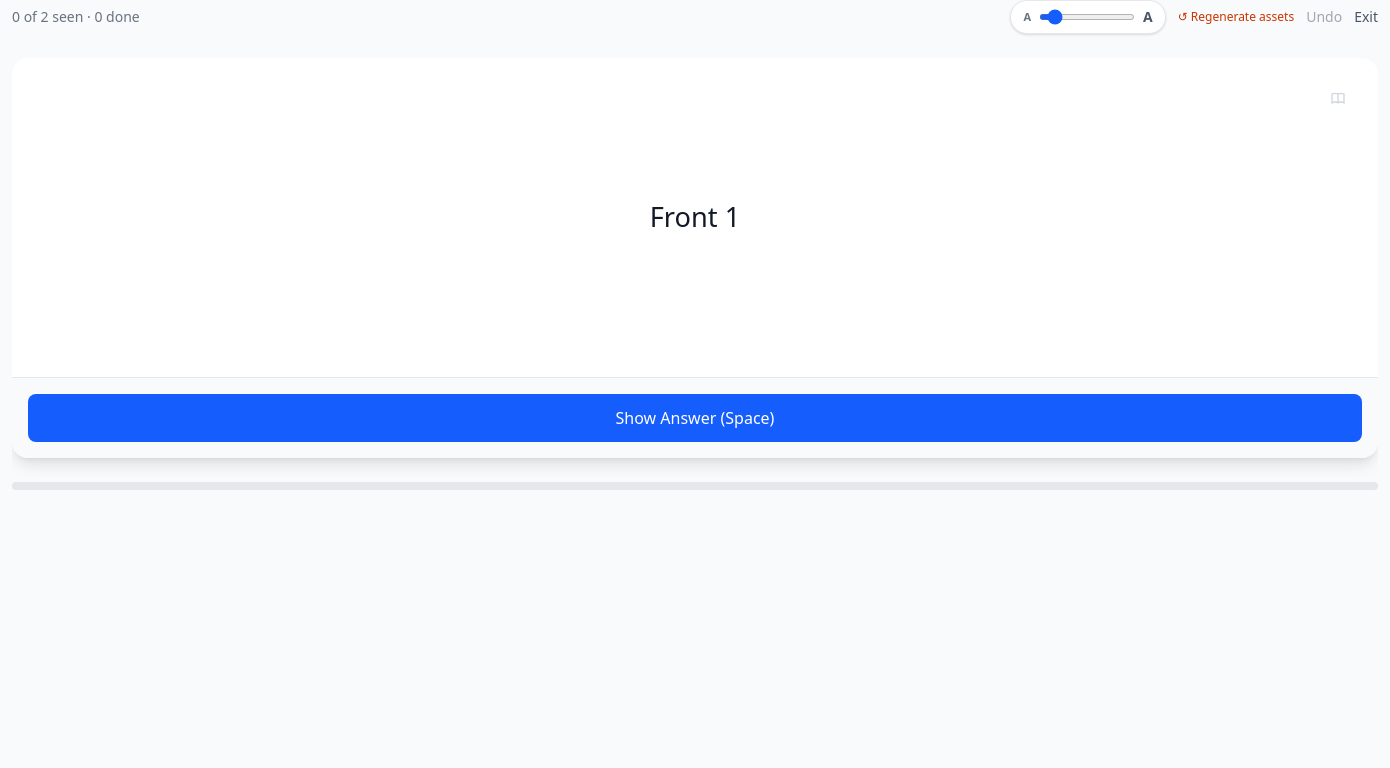
Scenario: FlashcardReview: removing a card’s picture is the teacher’s (v1.20.0) › the teacher sees Remove under the picture
What coordinates should you click on to do the following:
click the button "Show Answer (Space)"
I would click on:
 (695, 418)
Its box is [28,394,1362,442].
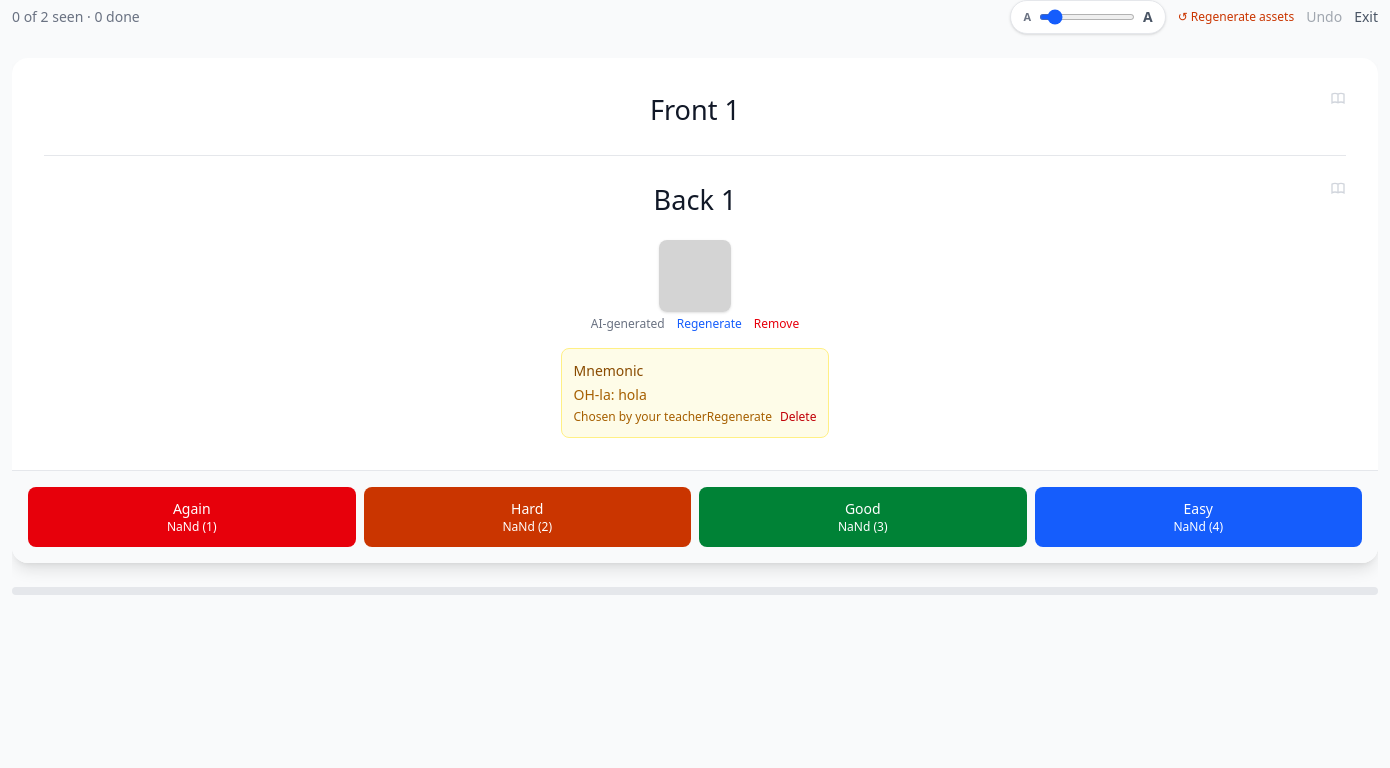
Expected: the button "Remove" is shown, [754,316,799,332]
